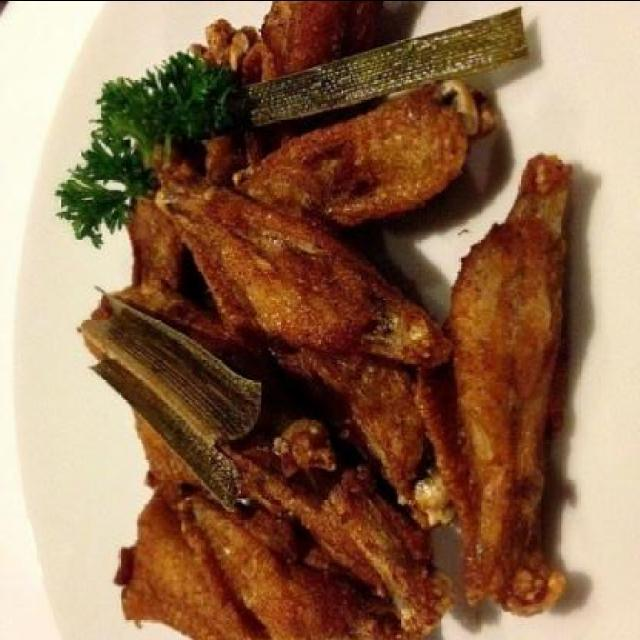Deep fried chicken wing: (97, 30, 540, 622)
